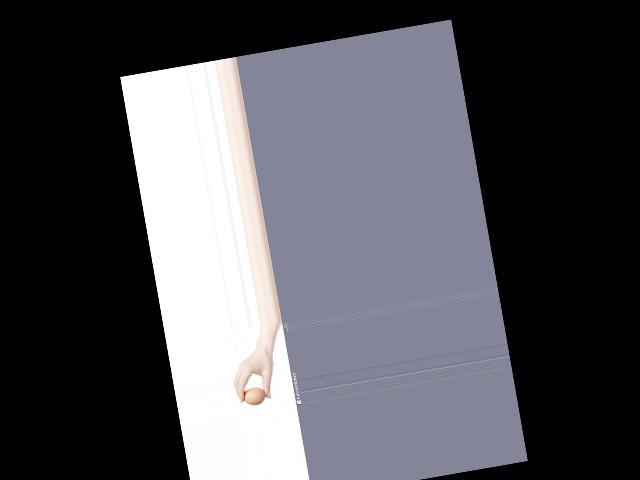egg: (242, 385, 267, 406)
